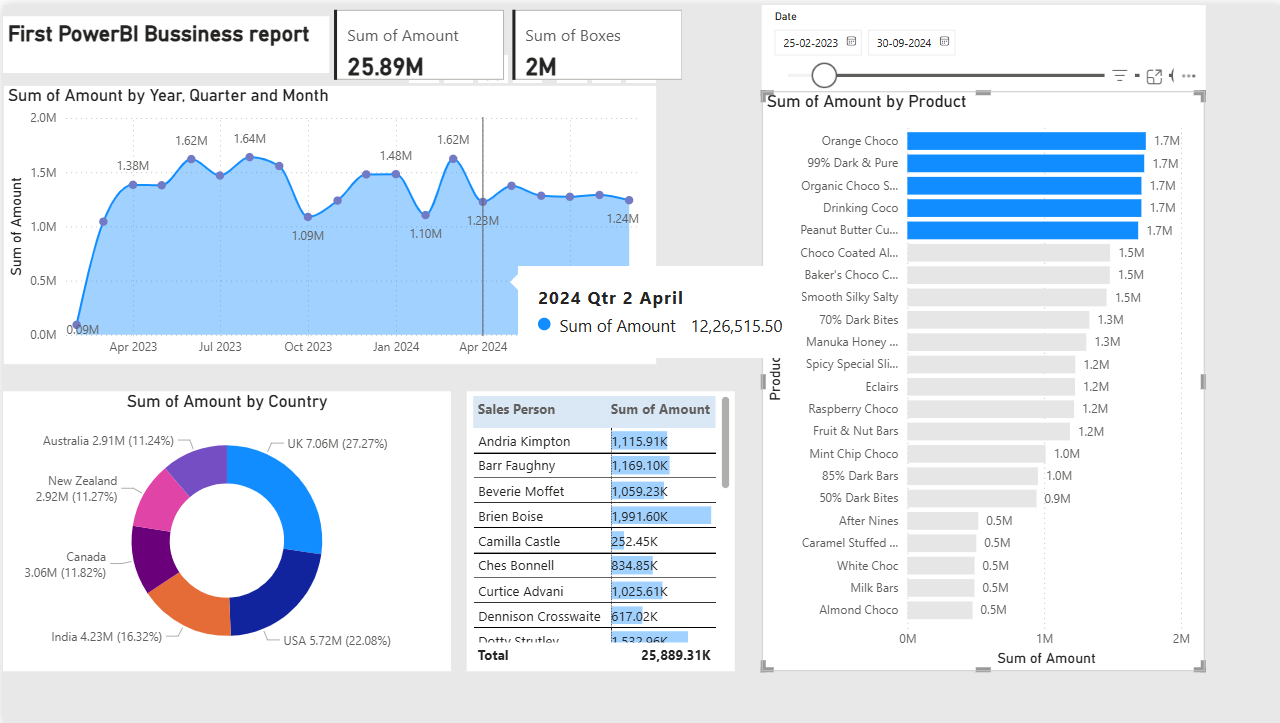

The dashboard page shown, as its layout file describes it:
{"tool":"powerbi","page":{"name":"First report","canvas":[1280,720],"ordinal":1},"visuals":[{"type":"lineChart","fields":{"Category":["data.Date.Variation.Date Hierarchy.Year","data.Date.Variation.Date Hierarchy.Quarter","data.Date.Variation.Date Hierarchy.Month","data.Date.Variation.Date Hierarchy.Day"],"Y":["Sum(data.Amount)"]},"box":[0,80,653.3,280],"z":0},{"type":"donutChart","fields":{"Category":["data.Country"],"Y":["Sum(data.Amount)"]},"box":[0,386.7,448.3,280],"z":1000},{"type":"tableEx","fields":{"Values":["data.Sales Person","Sum(data.Amount)"]},"box":[463.3,386.7,268.3,280],"z":2000},{"type":"clusteredBarChart","fields":{"Category":["data.Product"],"Y":["Sum(data.Amount)"]},"box":[758.3,86.7,443.3,580],"z":3000},{"type":"cardVisual","fields":{"Data":["Sum(data.Amount)","Sum(data.Boxes)"]},"box":[326.7,0,358.3,80],"z":4000},{"type":"slicer","fields":{"Values":["data.Date"]},"box":[758.3,0,443.3,86.7],"z":5000},{"type":"textbox","box":[0,11.7,326.7,56.7],"z":6000}]}

Visuals, with their boxes in screenshot pixels (x1, y1, x2, y2), scaled from the page's 1280x720 canvas onto the 1280x723 screenshot:
lineChart - data.Date.Variation.Date Hierarchy.Year x data.Date.Variation.Date Hierarchy.Quarter: box=[0, 80, 653, 362]
donutChart - data.Country x Sum(data.Amount): box=[0, 388, 448, 669]
tableEx - data.Sales Person x Sum(data.Amount): box=[463, 388, 732, 669]
clusteredBarChart - data.Product x Sum(data.Amount): box=[758, 87, 1202, 669]
cardVisual - Sum(data.Amount) x Sum(data.Boxes): box=[327, 0, 685, 80]
slicer - data.Date: box=[758, 0, 1202, 87]
textbox: box=[0, 12, 327, 69]
